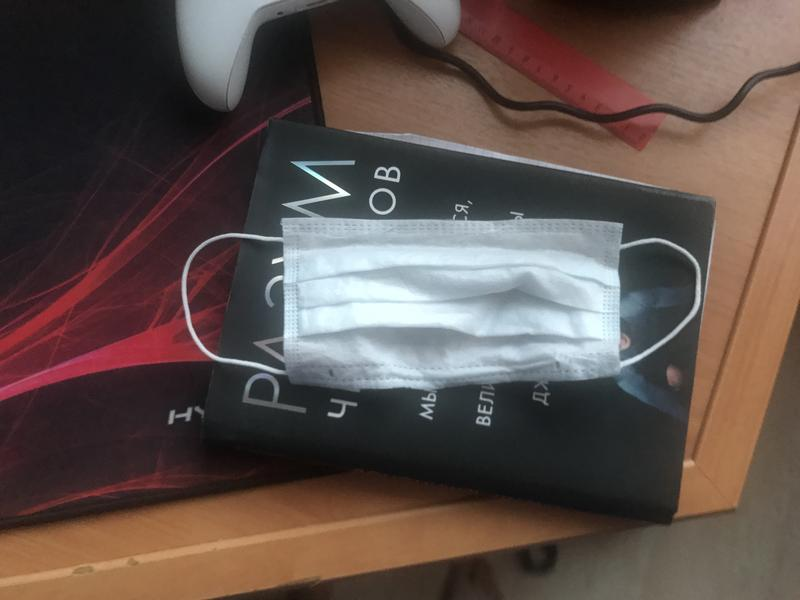medical_mask: (180, 220, 703, 388)
